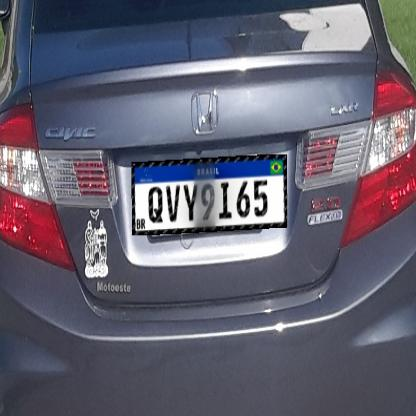PlacaM: (132, 154, 288, 236)
